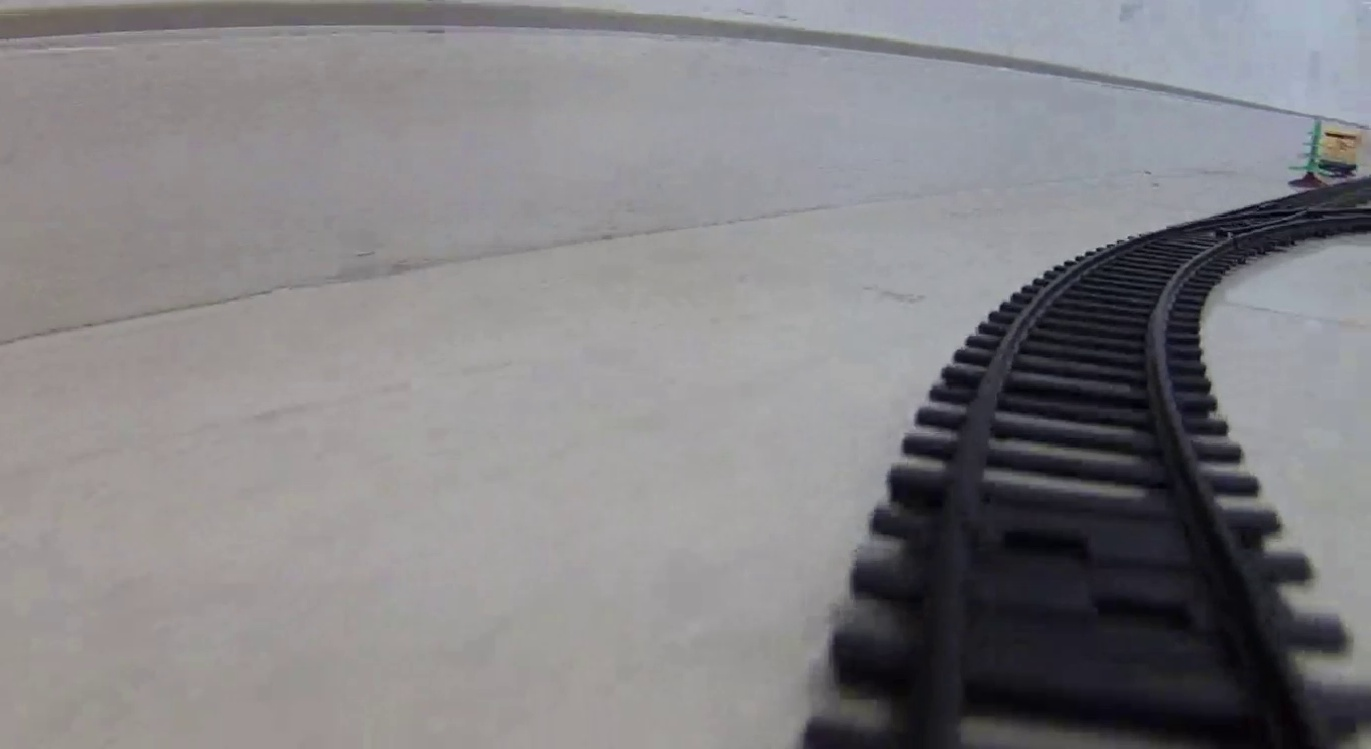tree: (1289, 117, 1329, 188)
